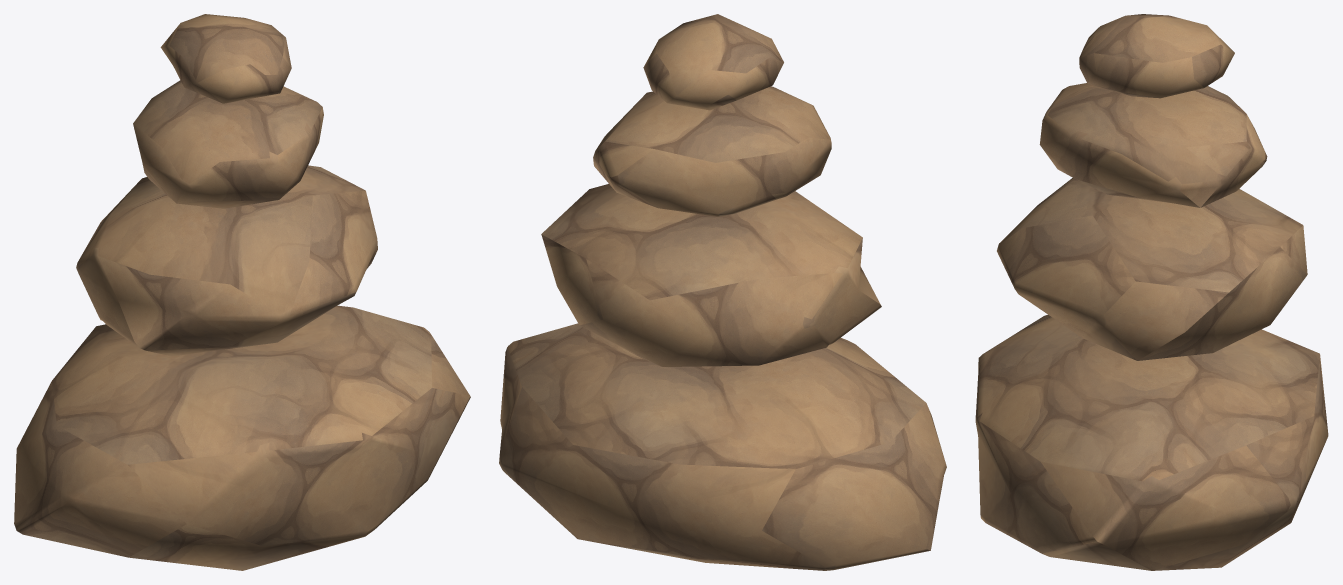
Rendered from stone_stack.gltf.
The picture shows the model from 3 angles, left to right: view 1: azimuth 30°, elevation 25°; view 2: azimuth 150°, elevation 25°; view 3: azimuth 270°, elevation 25°; orthographic projection. The views are drawn at different scales.
Parts seen in each view (by area): view 1: stone_stack; view 2: stone_stack; view 3: stone_stack.
Part boxes in pixels (x1,y1,x2,y2): stone_stack: (14,14,470,570); stone_stack: (499,14,946,570); stone_stack: (975,14,1328,570).
Bounding box in the file's own units: 2.45 × 2.79 × 1.73.
Materials: 1 (1 with a texture image).
